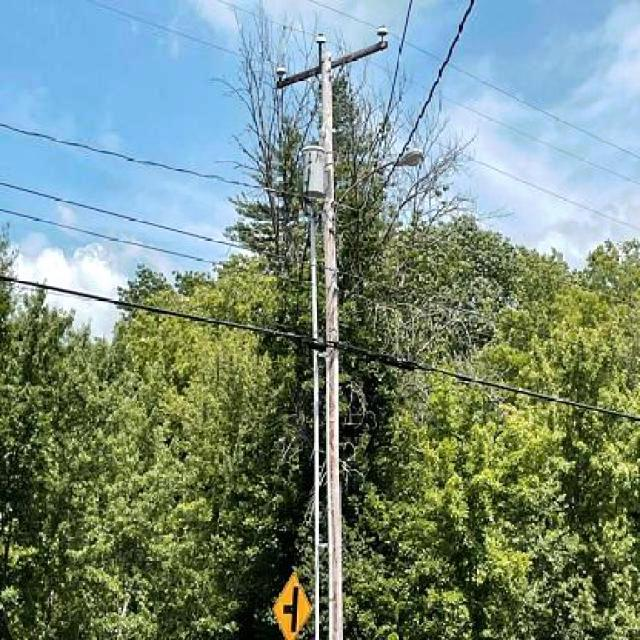poles: (278, 29, 386, 639)
wires: (338, 201, 632, 429), (9, 110, 279, 357), (373, 0, 631, 224)
